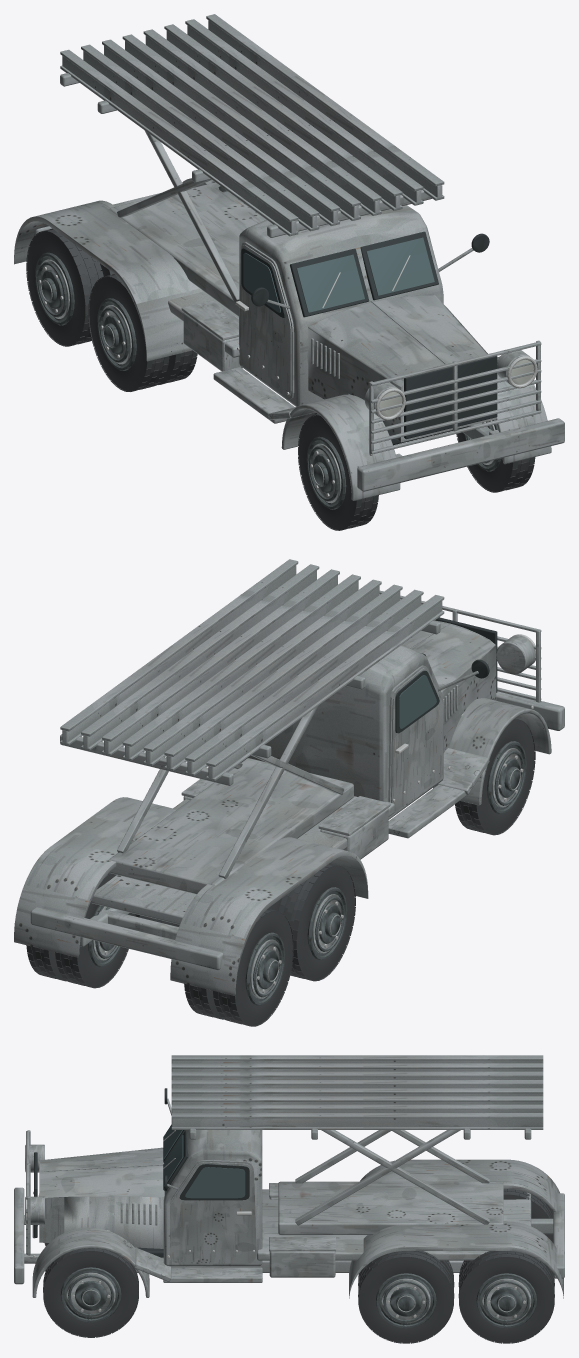
Rendered from BM13-visible-winter-download.glb.
3 renders of one model, top to bottom at view 1: azimuth 30°, elevation 25°; view 2: azimuth 150°, elevation 25°; view 3: azimuth 270°, elevation 25°, orthographic. The views are drawn at different scales.
Visible parts, largest first — view 1: BM13_Empty_Rack_Exterior-BM13_fitting.012-batch, BM13_Empty_Rack_Exterior-BM13_paint.012-batch, BM13_Fenders_Steps-BM13_paint.012-batch, BM13_Hood_Grille-BM13_paint.012-batch, BM13_Cab_Exterior-BM13_paint.012-batch, BM13_Hood_Grille-BM13_fitting.012-batch, BM13_Cab_Exterior-BM13_glass.012-batch, BM13_Chassis_Exterior-BM13_fitting.012-batch, BM13_PGF_Tire007, BM13_Radiator_Dark_Face, BM13_PGF_Tire003, BM13_PGF_Tire (+12 smaller); view 2: BM13_Empty_Rack_Exterior-BM13_fitting.012-batch, BM13_Fenders_Steps-BM13_paint.012-batch, BM13_Empty_Rack_Exterior-BM13_paint.012-batch, BM13_Cab_Exterior-BM13_paint.012-batch, BM13_Chassis_Exterior-BM13_fitting.012-batch, BM13_Hood_Grille-BM13_paint.012-batch, BM13_Chassis_Exterior-BM13_paint.012-batch, BM13_PGF_Tire003, BM13_PGF_Tire007, BM13_PGF_Tire, BM13_PGF_Tire008, BM13_Hood_Grille-BM13_fitting.012-batch (+10 smaller); view 3: BM13_Empty_Rack_Exterior-BM13_fitting.012-batch, BM13_Fenders_Steps-BM13_paint.012-batch, BM13_Empty_Rack_Exterior-BM13_paint.012-batch, BM13_Hood_Grille-BM13_paint.012-batch, BM13_Cab_Exterior-BM13_paint.012-batch, BM13_PGF_Tire005, BM13_PGF_Tire009, BM13_Chassis_Exterior-BM13_paint.012-batch, BM13_PGF_Tire001, BM13_Chassis_Exterior-BM13_fitting.012-batch, BM13_Cab_Exterior-BM13_glass.012-batch, BM13_Wheel_1_1_1_Pivot-BM13_wheel.012-batch (+11 smaller).
Boxes of the visible parts, x1=… form: BM13_Empty_Rack_Exterior-BM13_fitting.012-batch: x1=60, y1=14, x2=444, y2=316; BM13_Empty_Rack_Exterior-BM13_paint.012-batch: x1=62, y1=20, x2=442, y2=233; BM13_Fenders_Steps-BM13_paint.012-batch: x1=14, y1=178, x2=551, y2=500; BM13_Hood_Grille-BM13_paint.012-batch: x1=308, y1=295, x2=530, y2=442; BM13_Cab_Exterior-BM13_paint.012-batch: x1=239, y1=205, x2=443, y2=406; BM13_Hood_Grille-BM13_fitting.012-batch: x1=311, y1=301, x2=541, y2=454; BM13_Cab_Exterior-BM13_glass.012-batch: x1=243, y1=237, x2=434, y2=312; BM13_Chassis_Exterior-BM13_fitting.012-batch: x1=33, y1=193, x2=564, y2=491; BM13_PGF_Tire007: x1=26, y1=228, x2=103, y2=346; BM13_Radiator_Dark_Face: x1=404, y1=356, x2=497, y2=439; BM13_PGF_Tire003: x1=88, y1=274, x2=169, y2=391; BM13_PGF_Tire: x1=298, y1=414, x2=378, y2=530; BM13_Empty_Rack_Exterior-BM13_fitting.012-batch: x1=60, y1=559, x2=444, y2=894; BM13_Fenders_Steps-BM13_paint.012-batch: x1=14, y1=698, x2=551, y2=995; BM13_Empty_Rack_Exterior-BM13_paint.012-batch: x1=62, y1=565, x2=442, y2=778; BM13_Cab_Exterior-BM13_paint.012-batch: x1=241, y1=645, x2=443, y2=819; BM13_Chassis_Exterior-BM13_fitting.012-batch: x1=30, y1=691, x2=564, y2=970; BM13_Hood_Grille-BM13_paint.012-batch: x1=402, y1=620, x2=535, y2=751; BM13_Chassis_Exterior-BM13_paint.012-batch: x1=91, y1=796, x2=394, y2=924; BM13_PGF_Tire003: x1=278, y1=863, x2=355, y2=981; BM13_PGF_Tire007: x1=213, y1=908, x2=293, y2=1026; BM13_PGF_Tire: x1=455, y1=718, x2=535, y2=835; BM13_PGF_Tire008: x1=55, y1=872, x2=135, y2=988; BM13_Hood_Grille-BM13_fitting.012-batch: x1=379, y1=590, x2=541, y2=724; BM13_Empty_Rack_Exterior-BM13_fitting.012-batch: x1=171, y1=1055, x2=543, y2=1234; BM13_Fenders_Steps-BM13_paint.012-batch: x1=32, y1=1159, x2=563, y2=1298; BM13_Empty_Rack_Exterior-BM13_paint.012-batch: x1=171, y1=1060, x2=543, y2=1127; BM13_Hood_Grille-BM13_paint.012-batch: x1=29, y1=1144, x2=164, y2=1248; BM13_Cab_Exterior-BM13_paint.012-batch: x1=163, y1=1130, x2=262, y2=1266; BM13_PGF_Tire005: x1=358, y1=1251, x2=454, y2=1343; BM13_PGF_Tire009: x1=458, y1=1251, x2=554, y2=1343; BM13_Chassis_Exterior-BM13_paint.012-batch: x1=257, y1=1189, x2=531, y2=1277; BM13_PGF_Tire001: x1=43, y1=1248, x2=138, y2=1337; BM13_Chassis_Exterior-BM13_fitting.012-batch: x1=14, y1=1187, x2=564, y2=1284; BM13_Cab_Exterior-BM13_glass.012-batch: x1=164, y1=1125, x2=245, y2=1198; BM13_Wheel_1_1_1_Pivot-BM13_wheel.012-batch: x1=376, y1=1273, x2=436, y2=1328.
Size of the model in its own units: 3.64 by 3.93 by 9.04.
8 materials, 3 textured.
